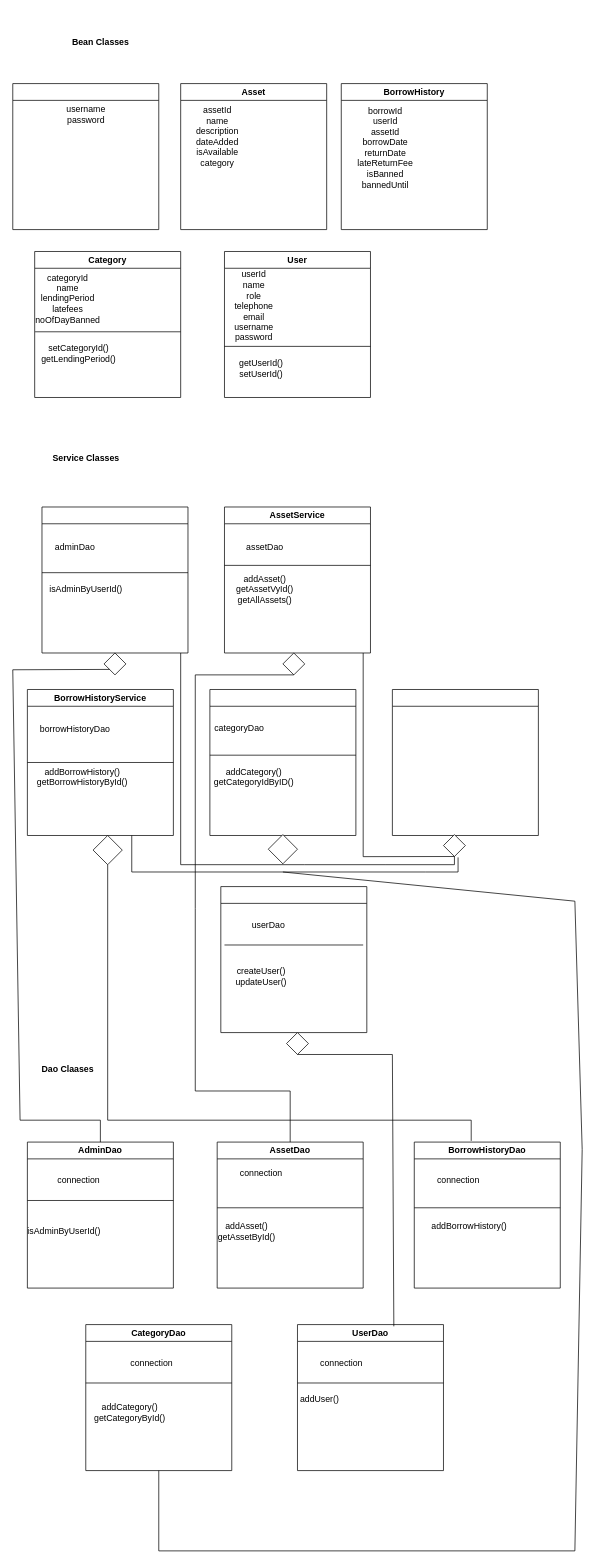
Some shapes in this 596 by 1564 pixel diagram are drawn without their labels. Each missing label, with the box of its shape:
AdminService: (41, 506, 188, 653)
CategoryService: (209, 689, 356, 835)
LoginCredentials: (12, 83, 159, 230)
ManagerService: (392, 689, 538, 835)
UserService: (220, 886, 367, 1033)
